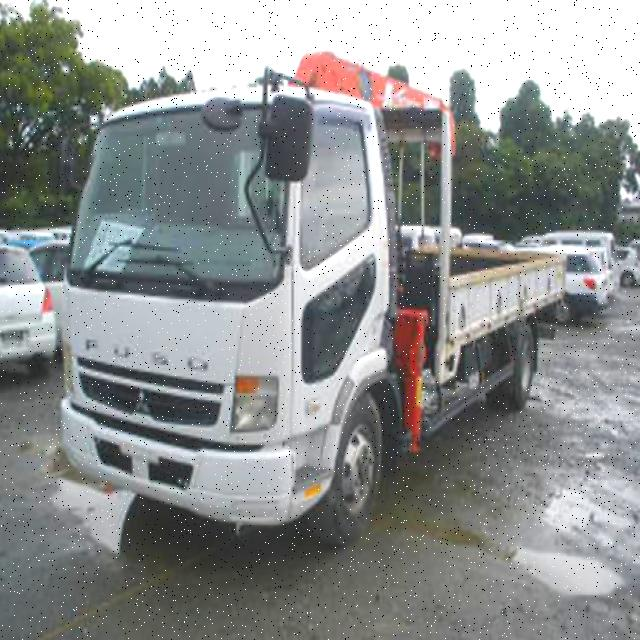truck: (57, 53, 563, 546)
